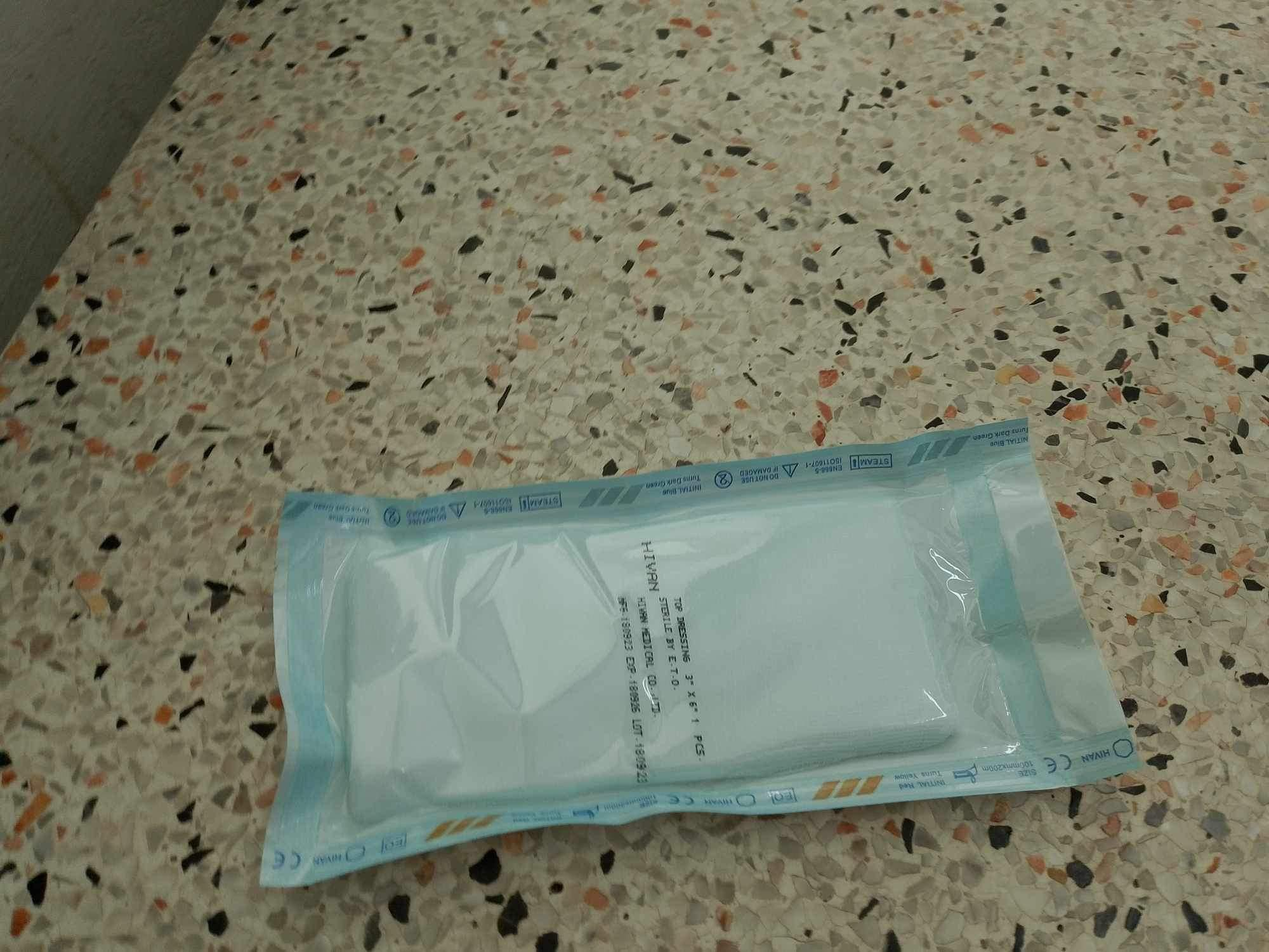General: (4, 3, 1263, 946)
Infectious: (258, 416, 1141, 888)
